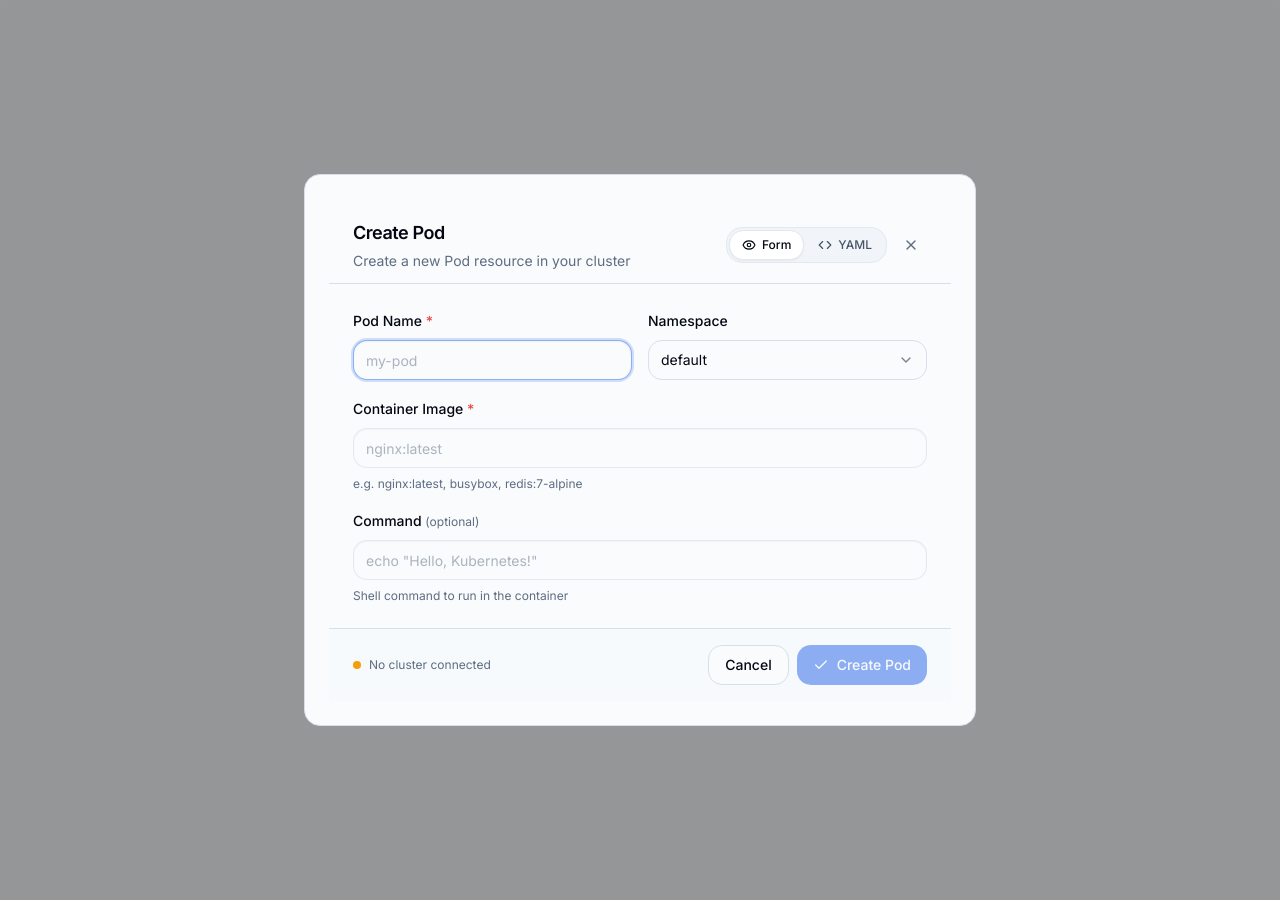
Scenario: QuickCreateDialog › YAML validation › shows empty YAML error
Click the button "YAML": click(845, 245) [806,231,884,259]
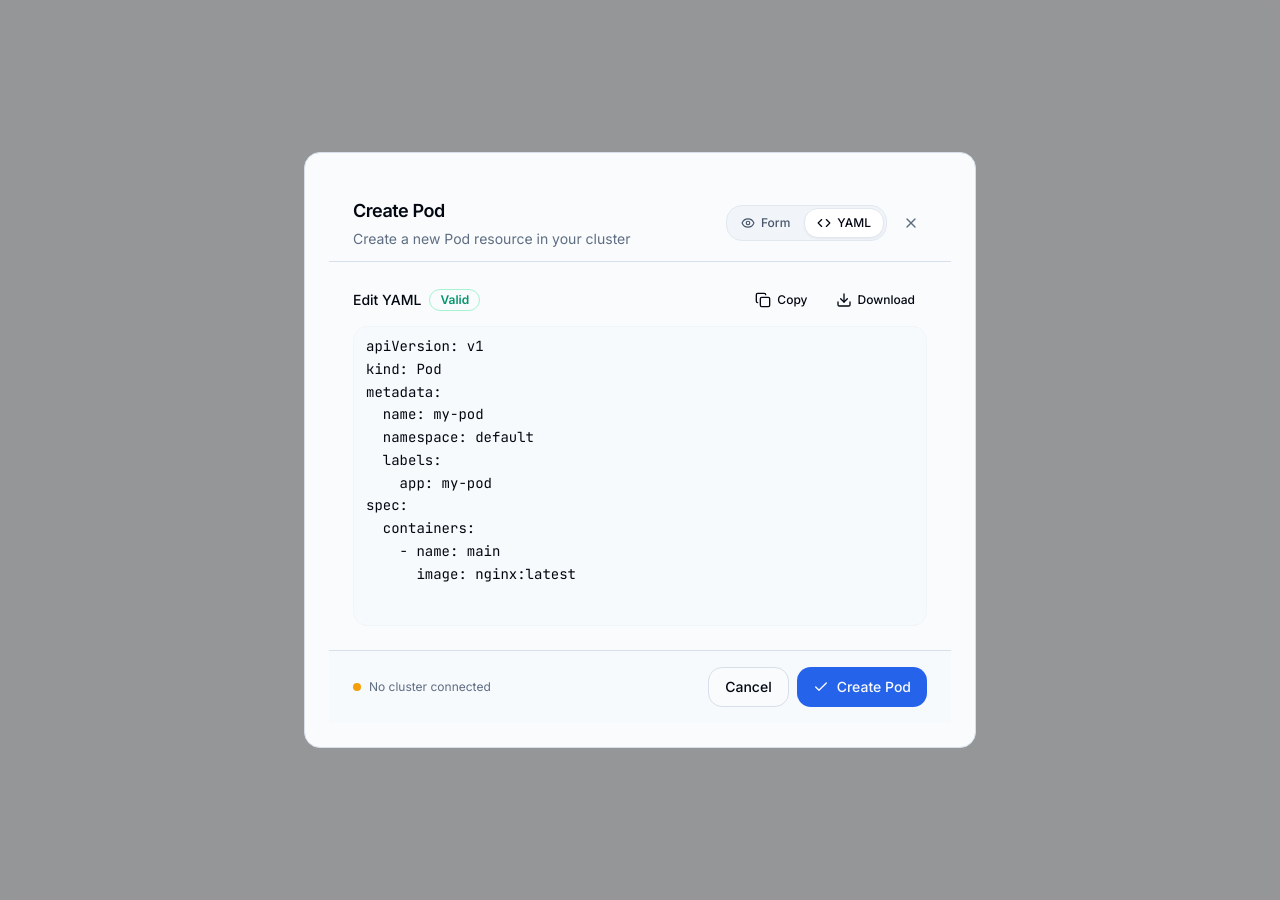
Clear the text box with placeholder "Enter YAML configuration...": (640, 476) [353,326,927,626]
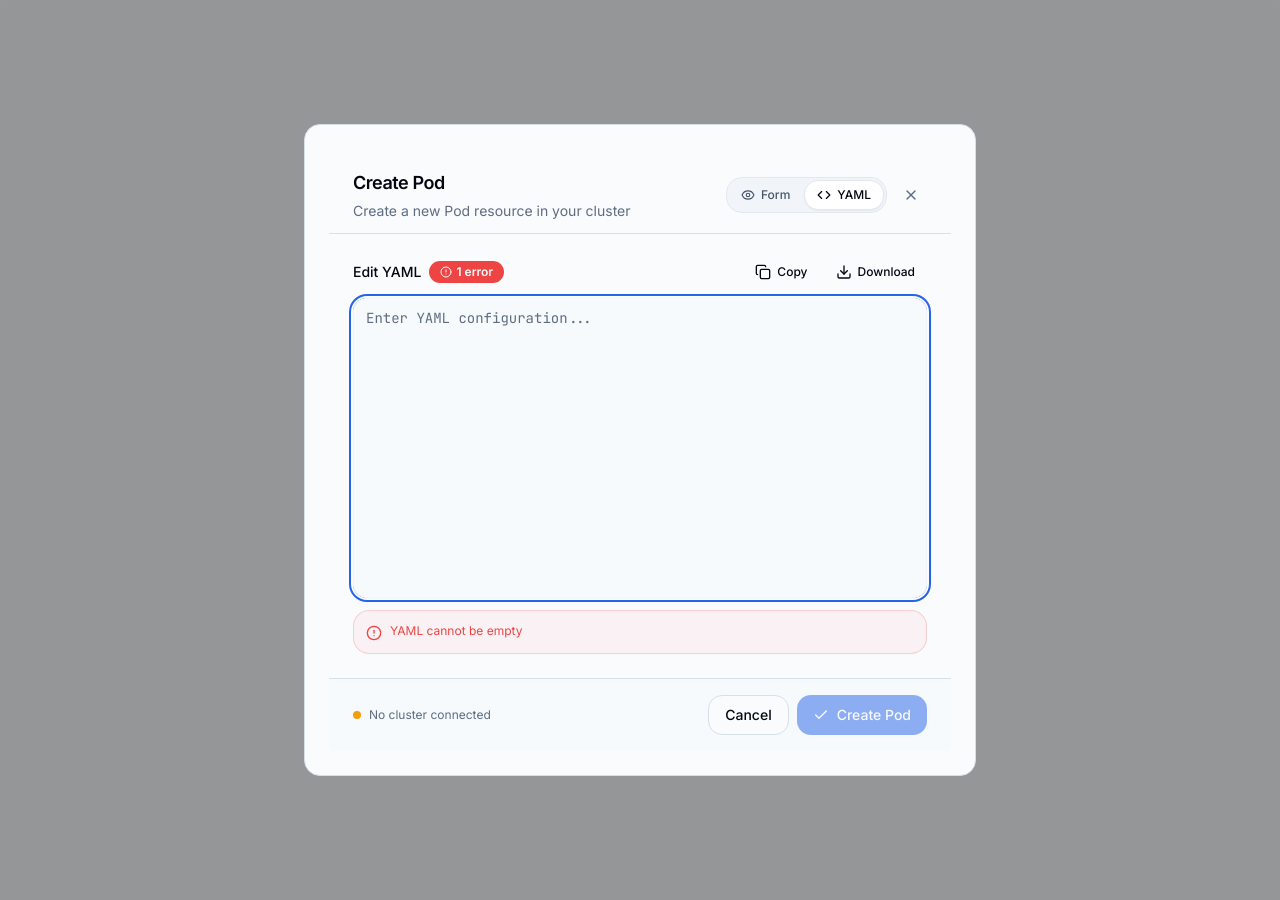
Expected: the button "Create Pod" is disabled, [797,695,927,735]
